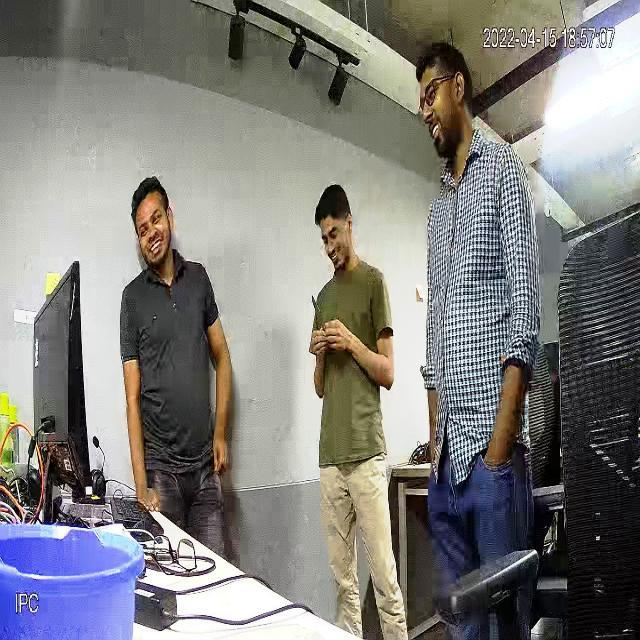Knife: (304, 289, 343, 353)
